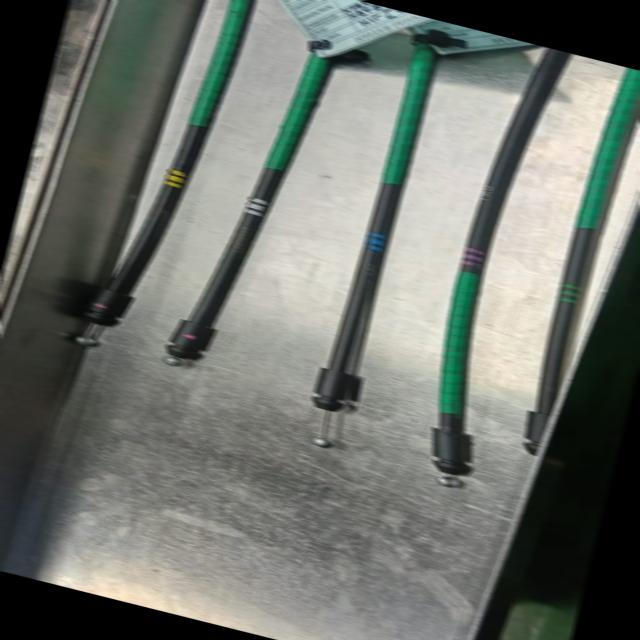blue: (363, 230, 388, 252)
green: (556, 282, 581, 304)
pink: (461, 246, 485, 268)
white: (243, 196, 270, 217)
yellow: (163, 168, 188, 188)
